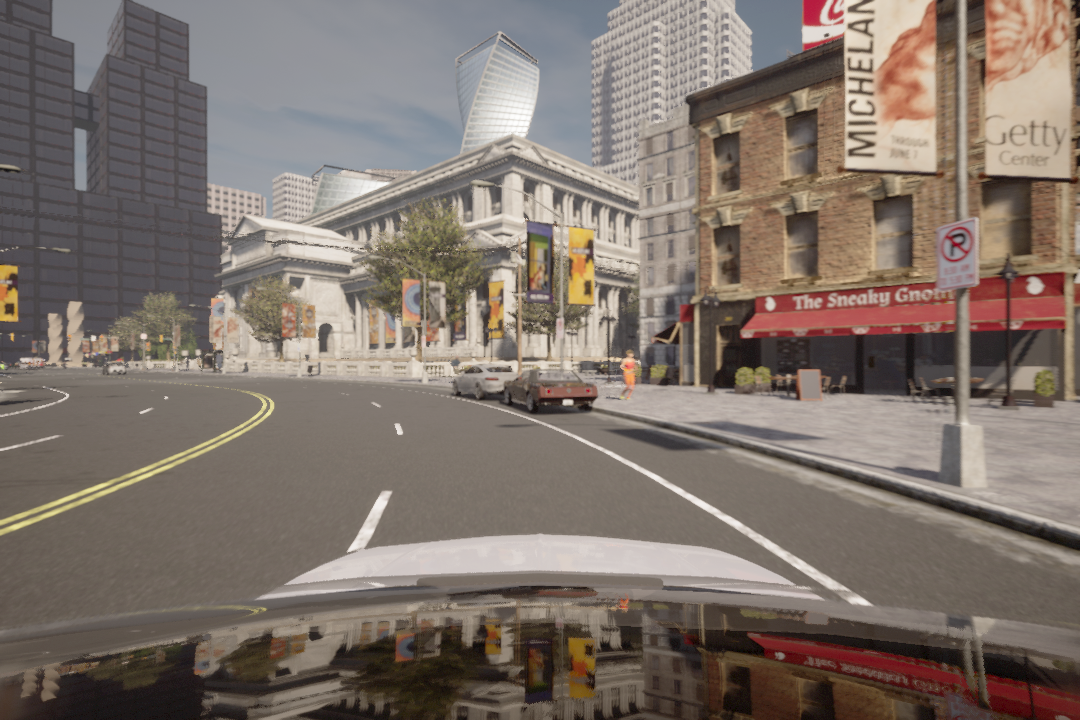TrafficSign_nstop: (935, 219, 981, 286)
